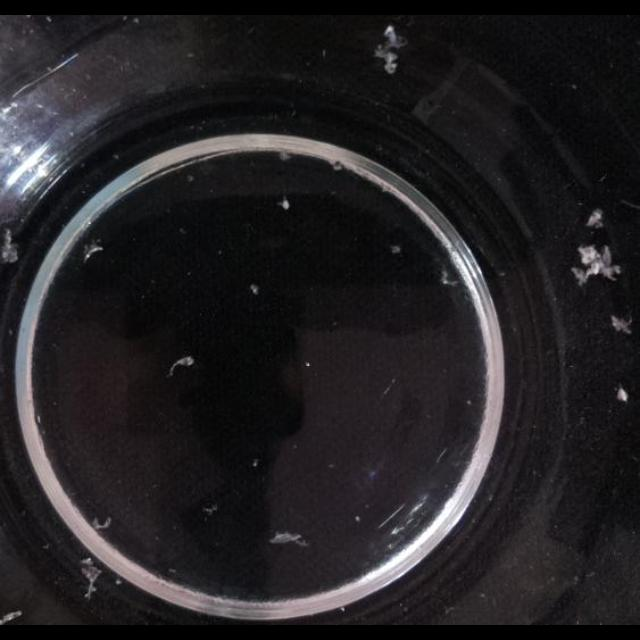Fibre: (572, 242, 620, 284), (374, 24, 410, 74), (81, 564, 103, 600), (1, 228, 19, 264), (168, 357, 194, 378), (268, 532, 306, 546), (82, 238, 104, 262), (611, 314, 633, 334), (586, 208, 604, 228), (440, 268, 460, 286), (92, 515, 112, 529), (202, 503, 218, 517), (278, 196, 290, 210), (278, 150, 292, 162), (249, 284, 259, 294)
microbeads: (616, 387, 628, 403), (252, 459, 258, 468), (466, 399, 472, 406), (305, 362, 311, 368), (355, 516, 361, 522)
